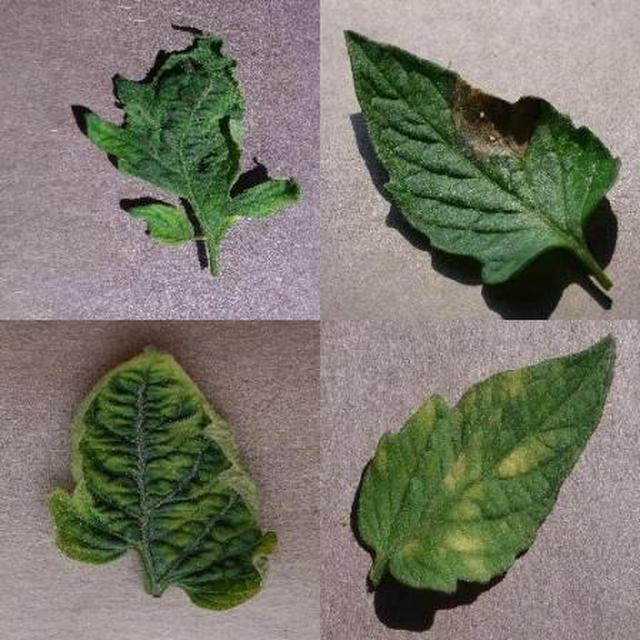Mosaic Virus Leaf: (236, 200, 640, 640)
